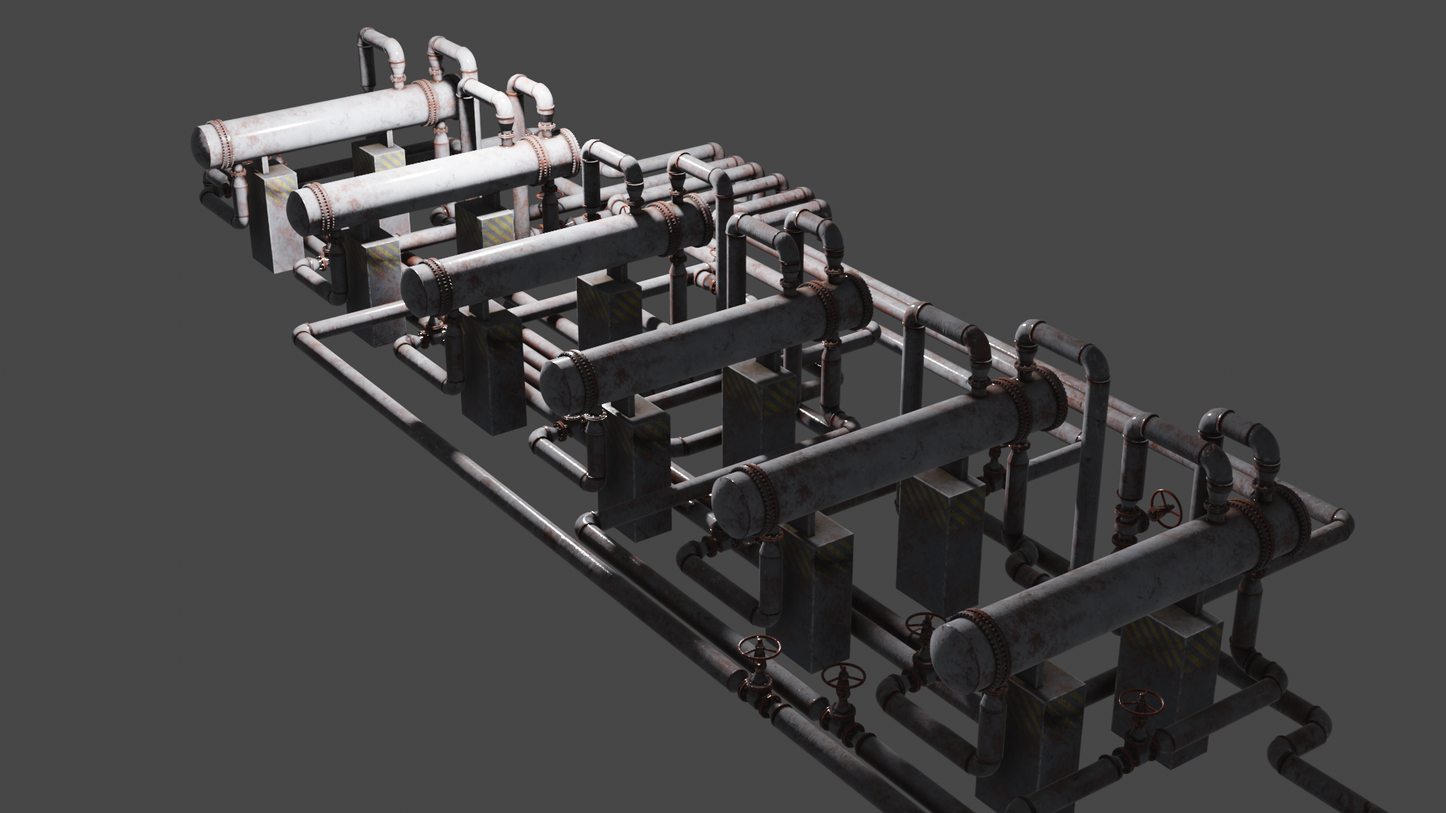HE_1: (931, 478, 1319, 699)
HE_2: (702, 357, 1069, 541)
HE_3: (535, 266, 877, 421)
HE_4: (397, 189, 712, 320)
HE_5: (282, 127, 584, 238)
HE_6: (190, 74, 464, 170)
